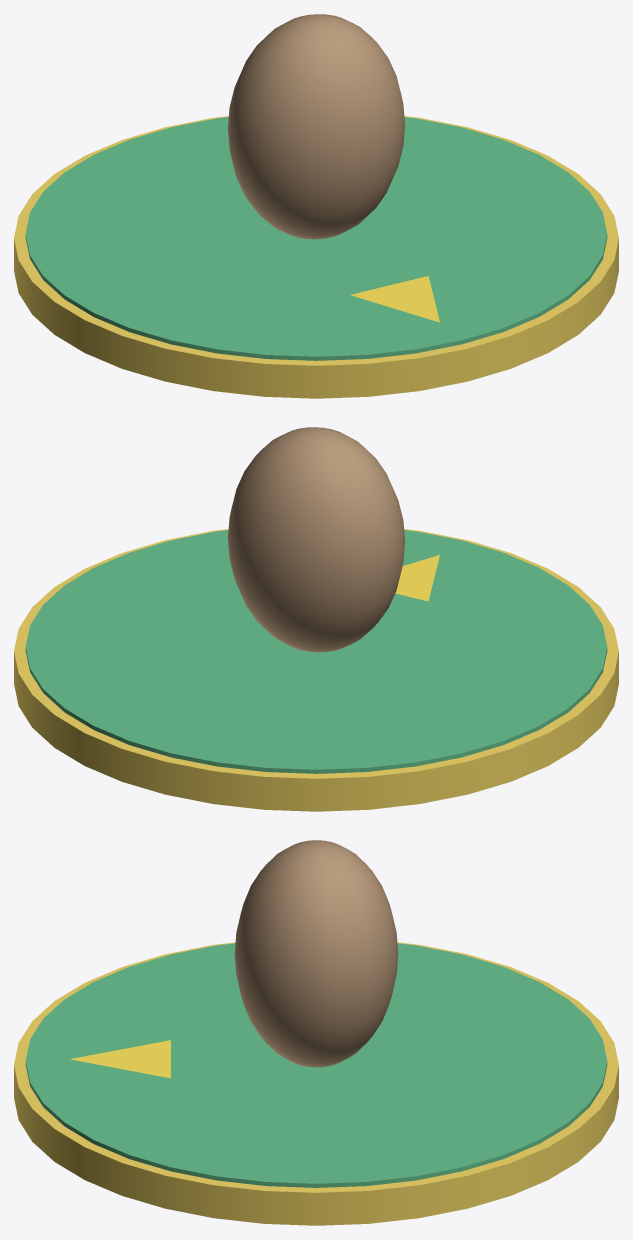
The model's file is dept1.glb.
The picture shows the model from 3 angles, top to bottom: view 1: azimuth 30°, elevation 25°; view 2: azimuth 150°, elevation 25°; view 3: azimuth 270°, elevation 25°; orthographic projection.
Visible parts, largest first — view 1: PedestalBase, Body, PedestalRim, PedestalAccent; view 2: PedestalBase, Body, PedestalRim, PedestalAccent; view 3: PedestalBase, Body, PedestalRim, PedestalAccent.
Part boxes in pixels (x1=…): PedestalBase: x1=25, y1=117, x2=607, y2=360; Body: x1=228, y1=14, x2=404, y2=239; PedestalRim: x1=14, y1=116, x2=618, y2=398; PedestalAccent: x1=350, y1=276, x2=439, y2=322; PedestalBase: x1=25, y1=530, x2=607, y2=773; Body: x1=228, y1=427, x2=404, y2=652; PedestalRim: x1=14, y1=529, x2=618, y2=811; PedestalAccent: x1=395, y1=555, x2=439, y2=601; PedestalBase: x1=25, y1=943, x2=607, y2=1187; Body: x1=234, y1=840, x2=398, y2=1067; PedestalRim: x1=14, y1=942, x2=618, y2=1225; PedestalAccent: x1=70, y1=1040, x2=170, y2=1078.
Bounding box in the file's own units: 3.33 × 1.55 × 3.33.
